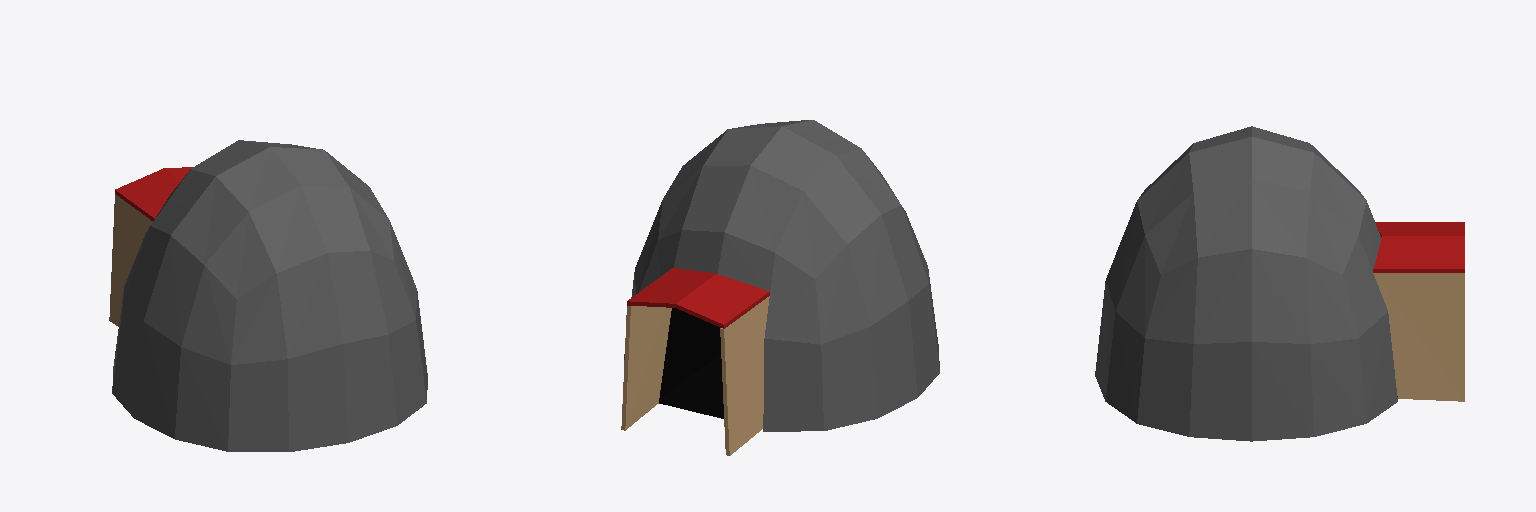
Rendered from BQuarry.obj.
The picture shows the model from 3 angles: view 1: azimuth 30°, elevation 25°; view 2: azimuth 150°, elevation 25°; view 3: azimuth 270°, elevation 25°; orthographic projection.
Parts seen in each view (by area): view 1: Quarry; view 2: Quarry; view 3: Quarry.
Boxes of the visible parts, x1,y1,x2,y2 form: Quarry: [109, 140, 427, 451]; Quarry: [621, 120, 939, 455]; Quarry: [1095, 126, 1464, 441].
Bounding box in the file's own units: 3.43 × 2.88 × 4.04.